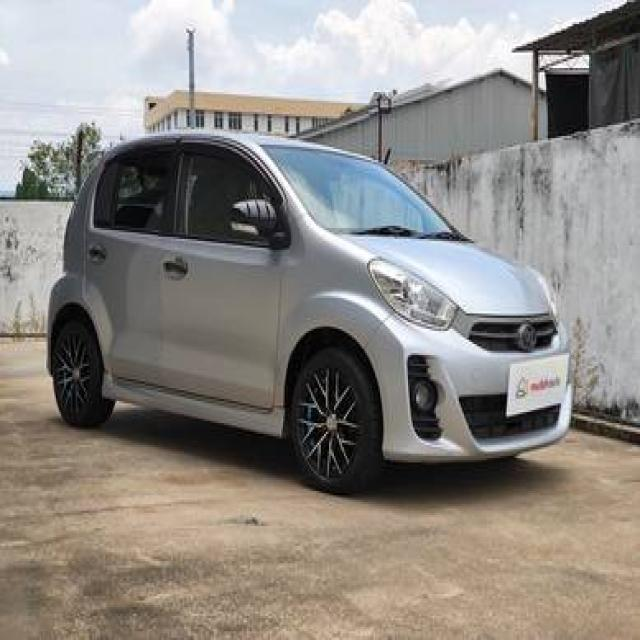PeroduaMyvi: (42, 124, 574, 496)
